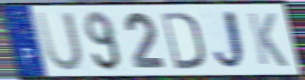2: (124, 10, 168, 71)
9: (83, 9, 124, 73)
D: (159, 10, 206, 71)
J: (211, 8, 251, 73)
K: (245, 10, 290, 69)
U: (34, 10, 85, 73)
